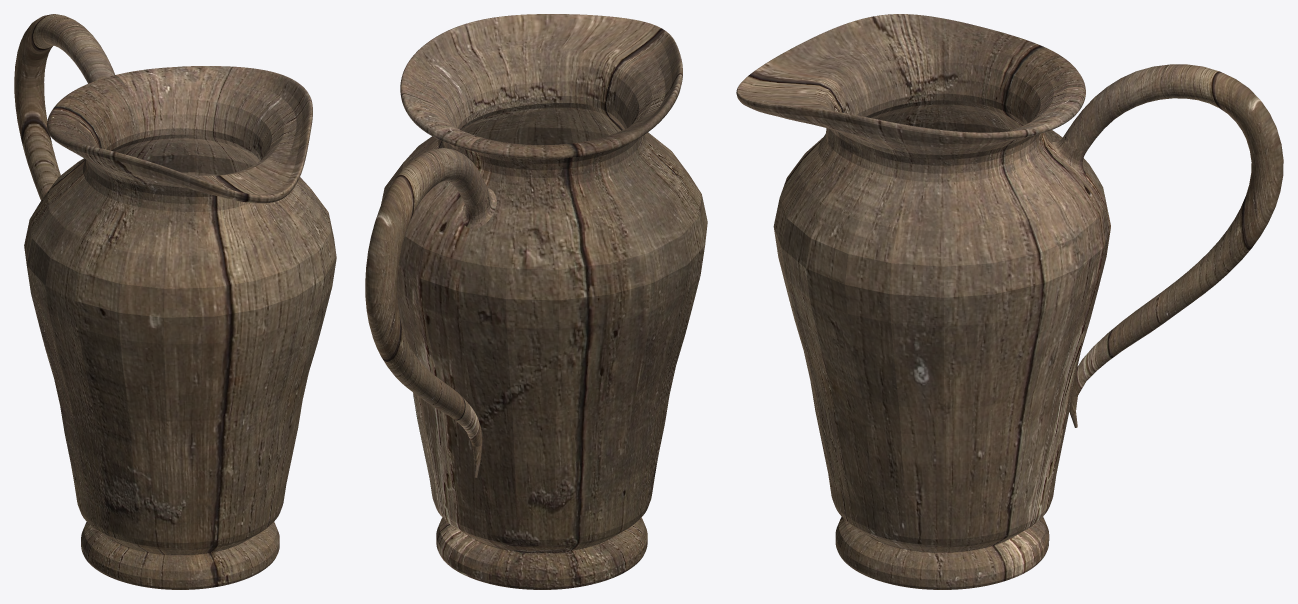
Rendered from pitcher.obj.
The picture shows the model from 3 angles, left to right: view 1: azimuth 30°, elevation 25°; view 2: azimuth 150°, elevation 25°; view 3: azimuth 270°, elevation 25°; orthographic projection. The views are drawn at different scales.
Parts seen in each view (by area): view 1: Pitcher; view 2: Pitcher; view 3: Pitcher.
Boxes of the visible parts, bbox=[...] form: Pitcher: bbox=[14, 14, 336, 589]; Pitcher: bbox=[365, 14, 707, 589]; Pitcher: bbox=[736, 14, 1283, 589].
Size of the model in its own units: 12.53 by 19.73 by 20.33.
1 material, 1 textured.
